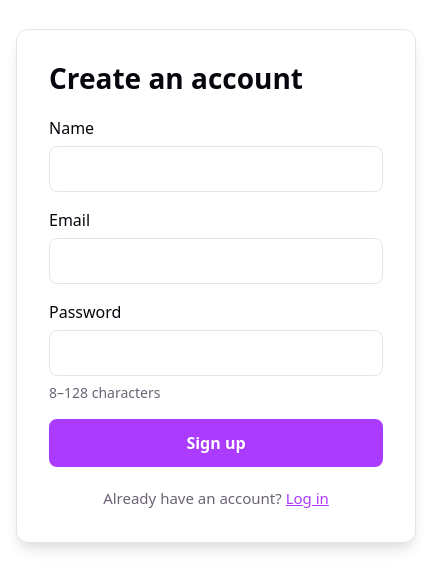
Test: SignupPage › shows the email-taken message under the email field on a 409
Expected: the heading "Create an account" is shown, [49,60,303,98]
Type "Ada" into the field labelled "Name" at (216, 169), box [49,146,383,192]
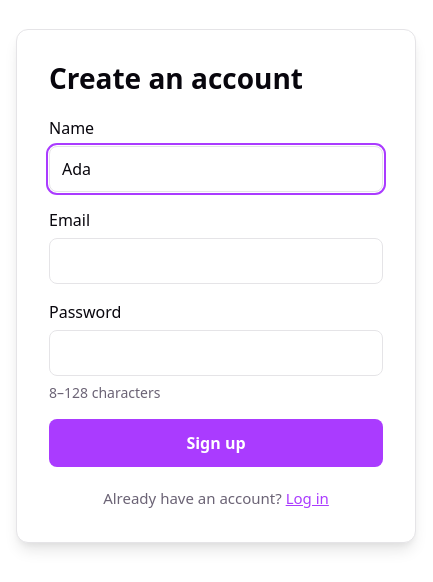
Type "ada@example.com" into the field labelled "Email" at (216, 261), box [49,238,383,284]
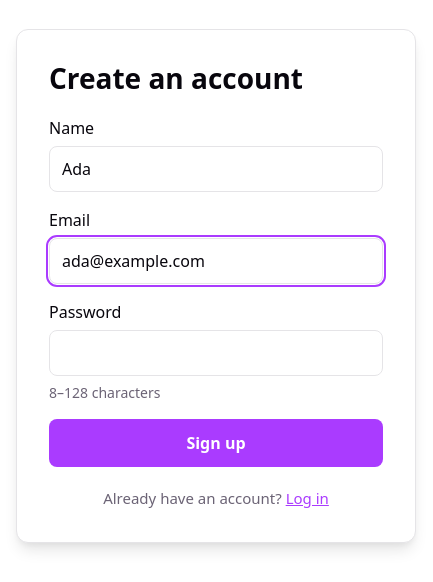
Type "password1" into the password field labelled "Password" at (216, 353), box [49,330,383,376]
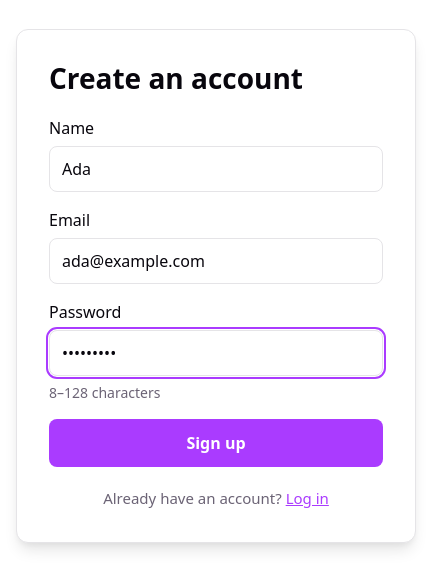
Click the button "Sign up" at (216, 443), box [49,419,383,467]
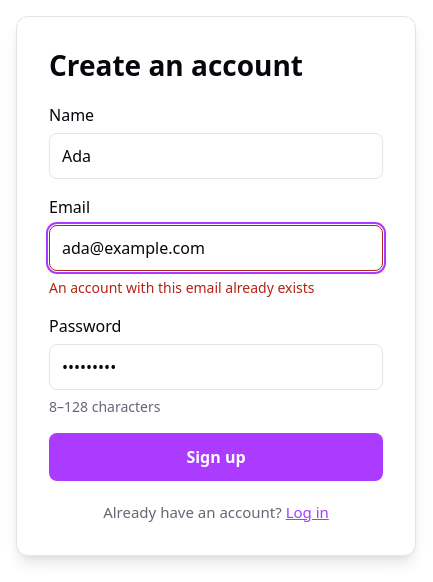
Expected: the text "An account with this email already exists" is shown, [49,278,314,296]
